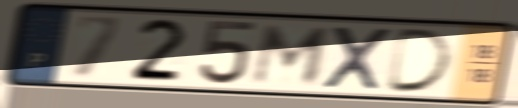2: (129, 17, 191, 85)
5: (198, 19, 260, 87)
7: (70, 14, 124, 81)
D: (382, 26, 457, 95)
M: (248, 23, 336, 87)
X: (319, 23, 395, 93)
